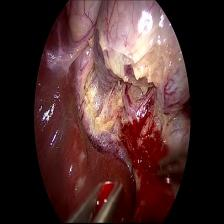Grasper: (68, 175, 126, 224)
